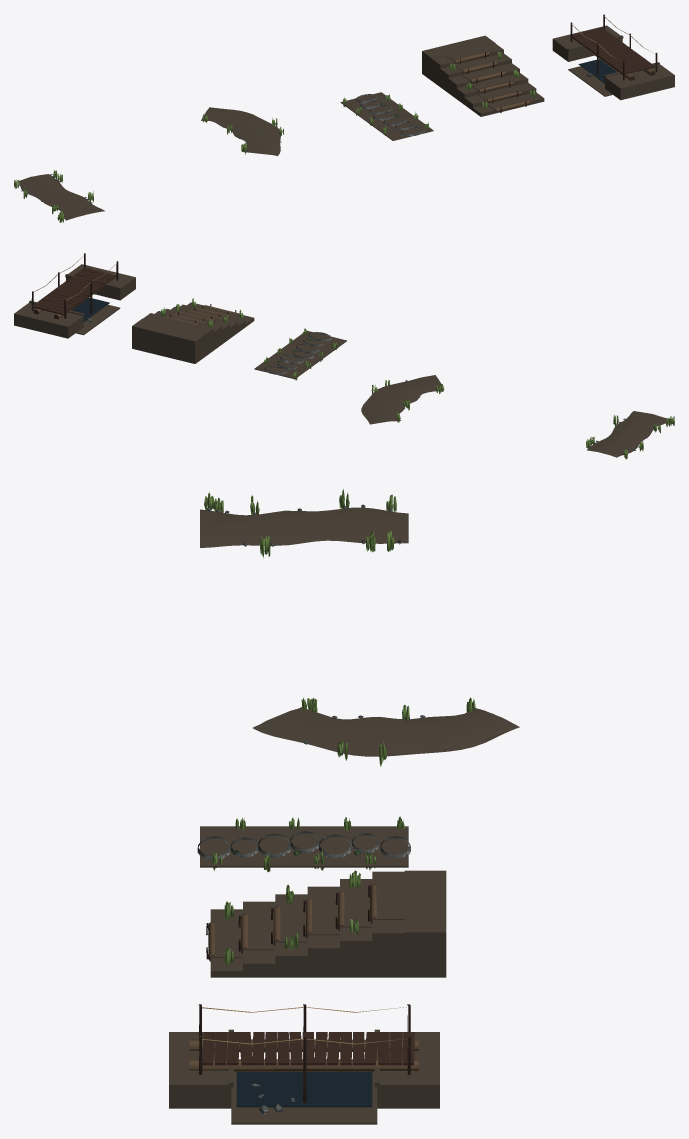
The model's file is prop_paths.gltf.
3 renders of one model, top to bottom at view 1: azimuth 30°, elevation 25°; view 2: azimuth 150°, elevation 25°; view 3: azimuth 270°, elevation 25°, orthographic. The views are drawn at different scales.
Parts seen in each view (by area): view 1: Far, Near; view 2: Far, Near; view 3: Far, Near.
Boxes of the visible parts, <box> form: Far: <box>16,14,674,220</box>; Near: <box>14,15,657,222</box>; Far: <box>14,253,668,457</box>; Near: <box>31,254,674,459</box>; Far: <box>169,495,514,1124</box>; Near: <box>189,489,519,1114</box>.
Size of the model in its own units: 26.81 by 1.83 by 6.74.
Materials: 11 (4 with a texture image).
